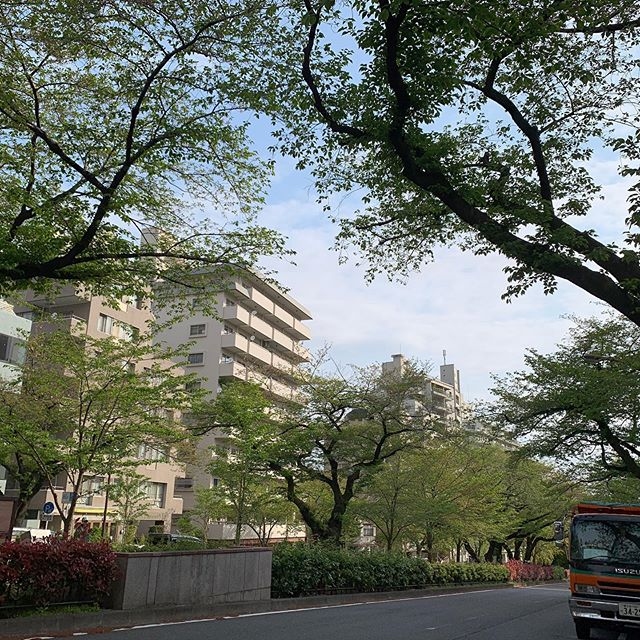building: (1, 269, 317, 535)
sky: (315, 3, 640, 370)
street: (9, 583, 568, 640)
tree: (301, 4, 636, 318), (5, 1, 310, 289), (234, 373, 430, 558), (496, 318, 640, 481)
